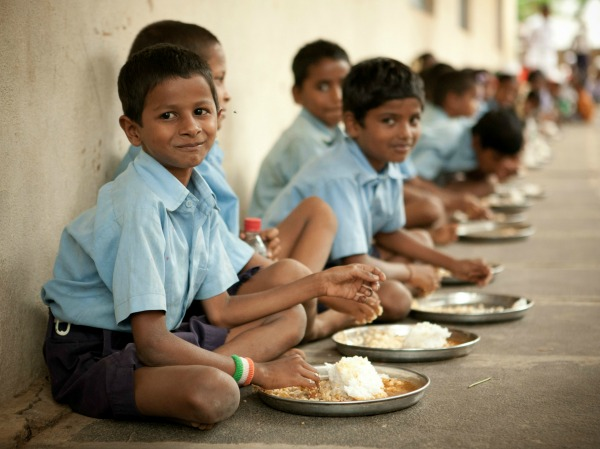student: (113, 60, 225, 164), (129, 18, 234, 122), (336, 67, 426, 163), (286, 48, 356, 122), (472, 109, 525, 168)
